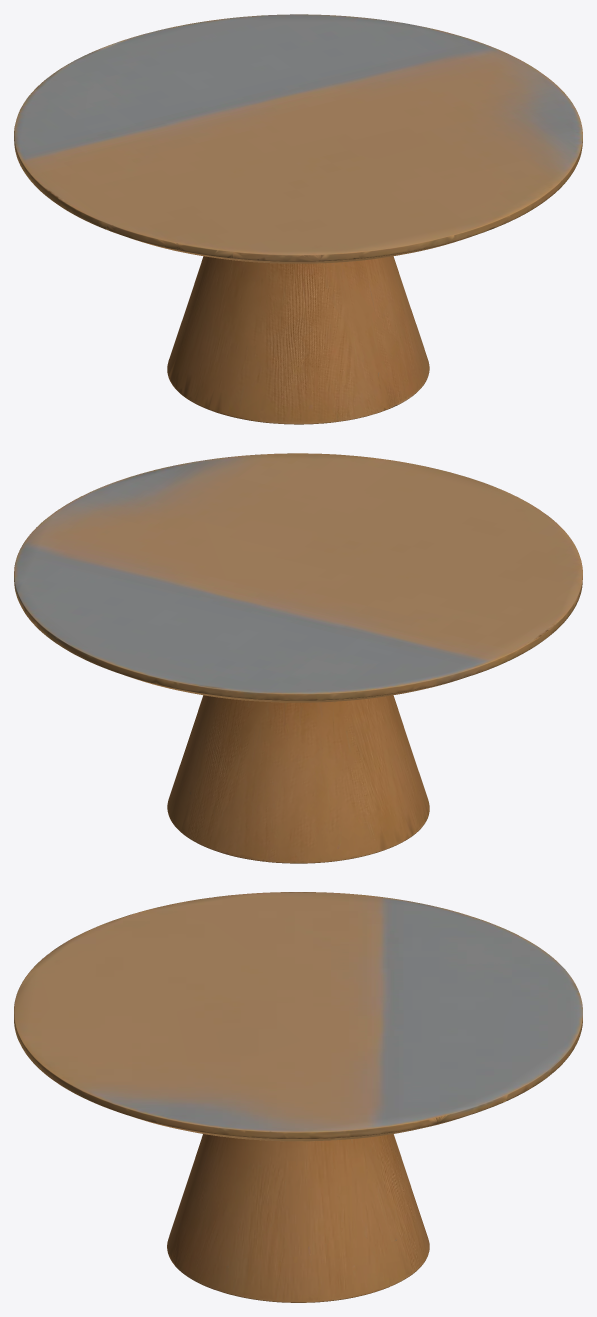
3 renders of one model, top to bottom at view 1: azimuth 30°, elevation 25°; view 2: azimuth 150°, elevation 25°; view 3: azimuth 270°, elevation 25°, orthographic.
Visible parts, largest first — view 1: material; view 2: material; view 3: material.
Boxes of the visible parts, box(x1,y1,x2,y2) form: material: box(14, 14, 582, 424); material: box(14, 453, 582, 863); material: box(14, 892, 582, 1302).
Bounding box in the file's own units: 1.09 × 0.4971 × 1.09.
1 material, 1 textured.
